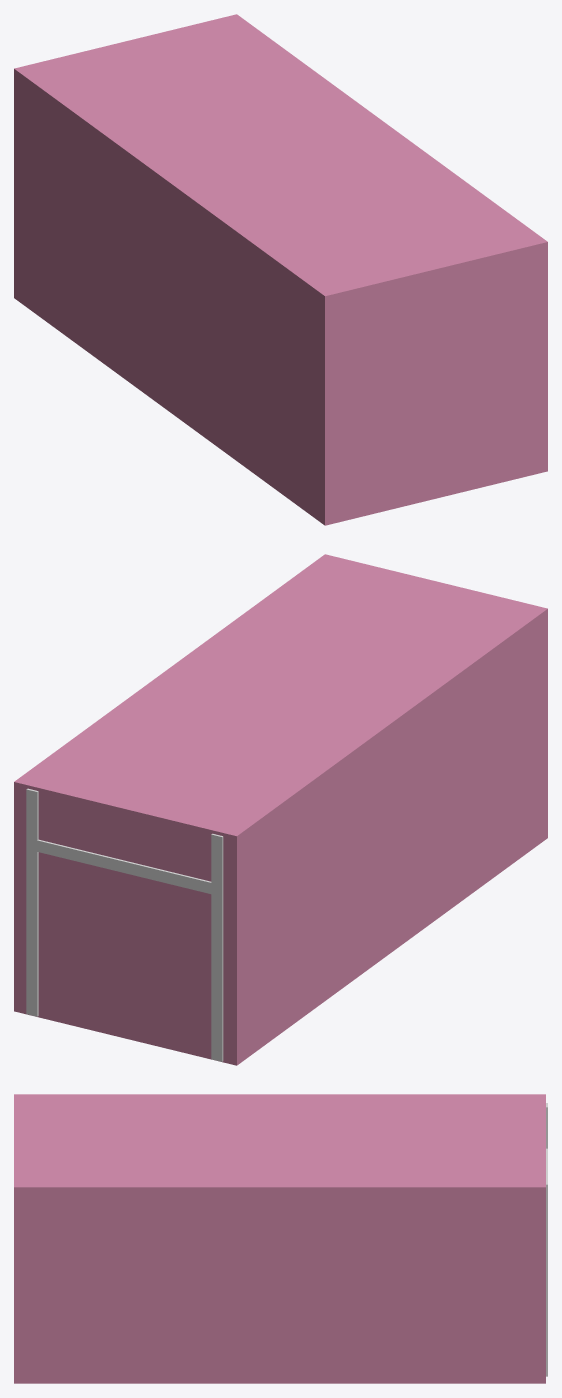
The model's file is ind_ramp_01_3m.dae.
3 views of the same model, one above another, from view 1: azimuth 30°, elevation 25°; view 2: azimuth 150°, elevation 25°; view 3: azimuth 270°, elevation 25° (orthographic). The views are drawn at different scales.
Parts seen in each view (by area): view 1: Untitled; view 2: Untitled, tree_oak_bush_a100; view 3: Untitled, tree_oak_bush_a100.
Boxes of the visible parts, bbox=[...] form: Untitled: bbox=[14, 14, 547, 525]; Untitled: bbox=[14, 554, 547, 1065]; tree_oak_bush_a100: bbox=[26, 788, 223, 1061]; Untitled: bbox=[14, 1094, 545, 1383]; tree_oak_bush_a100: bbox=[546, 1103, 547, 1376].
Size of the model in its own units: 4.1 by 9.95 by 4.03.
